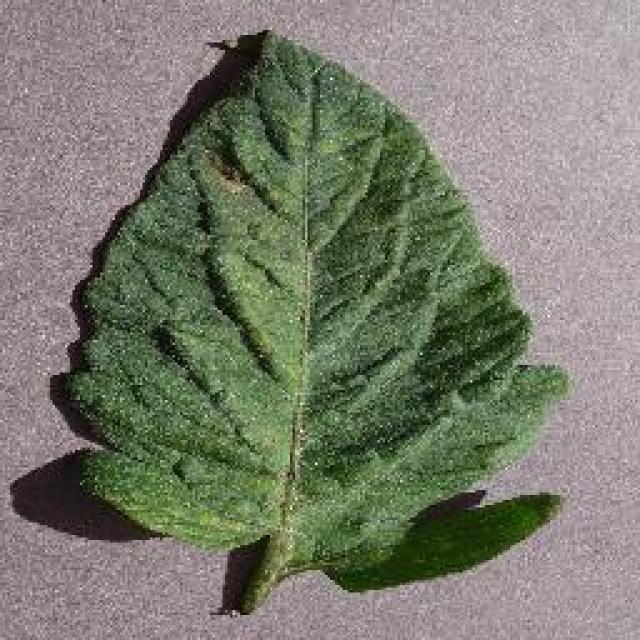Tom_Target_Spot: (182, 107, 266, 215)
